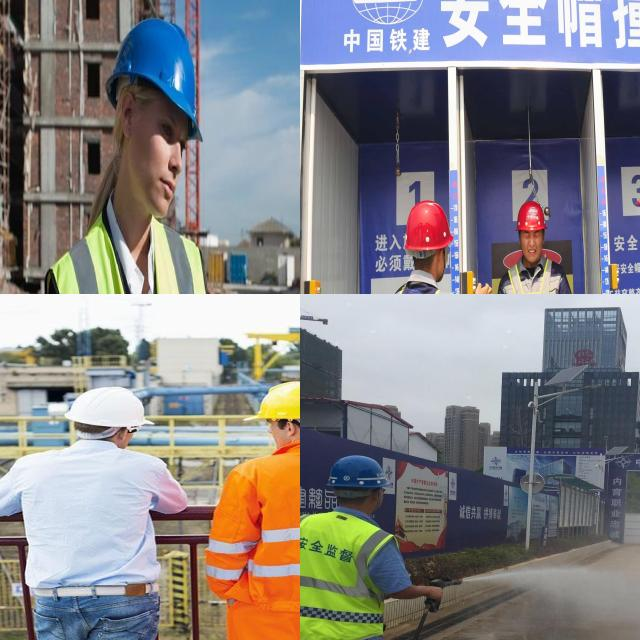No_Ear-Protection: (117, 83, 138, 146)
No_Glasses: (152, 102, 194, 163)
face_nomask: (136, 93, 193, 221), (517, 222, 549, 268)
hand_noglove: (422, 577, 448, 611), (476, 277, 496, 294)
head_helmet: (107, 17, 203, 145), (61, 386, 156, 426), (402, 198, 456, 250), (318, 454, 394, 490), (252, 379, 300, 418), (517, 202, 548, 229)
person: (65, 12, 219, 294), (17, 387, 162, 640), (212, 374, 300, 640), (300, 452, 391, 640), (493, 194, 577, 294), (383, 198, 468, 294)
vest: (300, 515, 396, 640), (233, 453, 300, 594), (504, 257, 573, 294)
